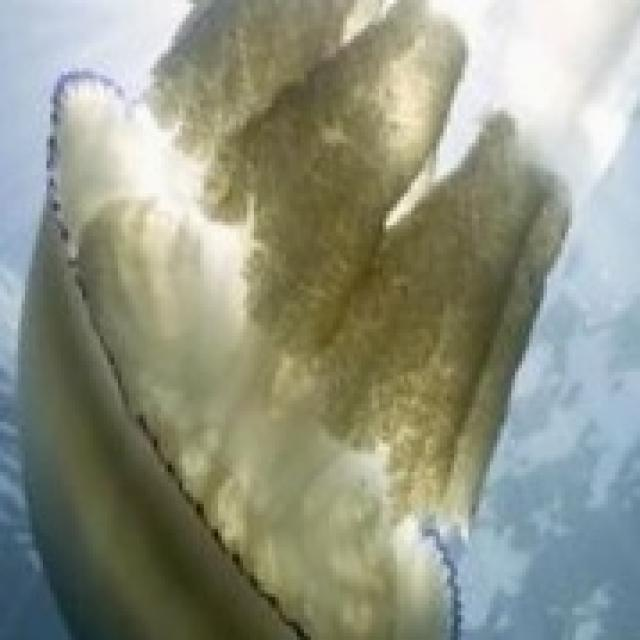Human: (14, 0, 572, 636)
